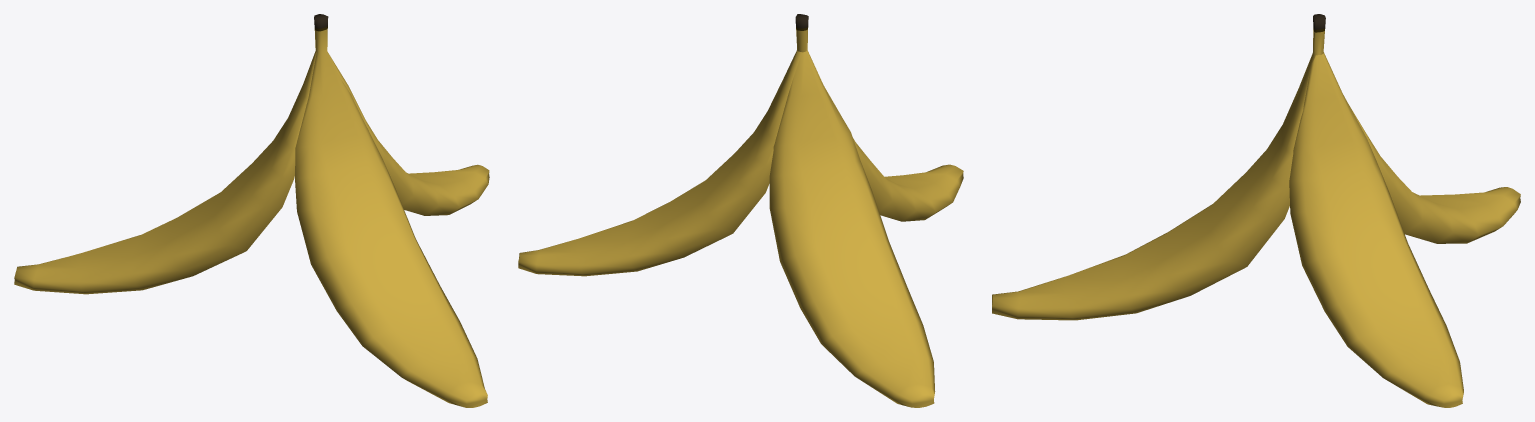
Rendered from SM_Banana_Peel_01.fbx.
The picture shows the model from 3 angles, left to right: view 1: azimuth 30°, elevation 25°; view 2: azimuth 150°, elevation 25°; view 3: azimuth 270°, elevation 25°; orthographic projection. The views are drawn at different scales.
Visible parts, largest first — view 1: Banana_Peel_01; view 2: Banana_Peel_01; view 3: Banana_Peel_01.
Part boxes in pixels (<box>): Banana_Peel_01: <box>14,14,489,407</box>; Banana_Peel_01: <box>518,14,963,407</box>; Banana_Peel_01: <box>992,14,1520,407</box>.
Size of the model in its own units: 189 by 113 by 183.
